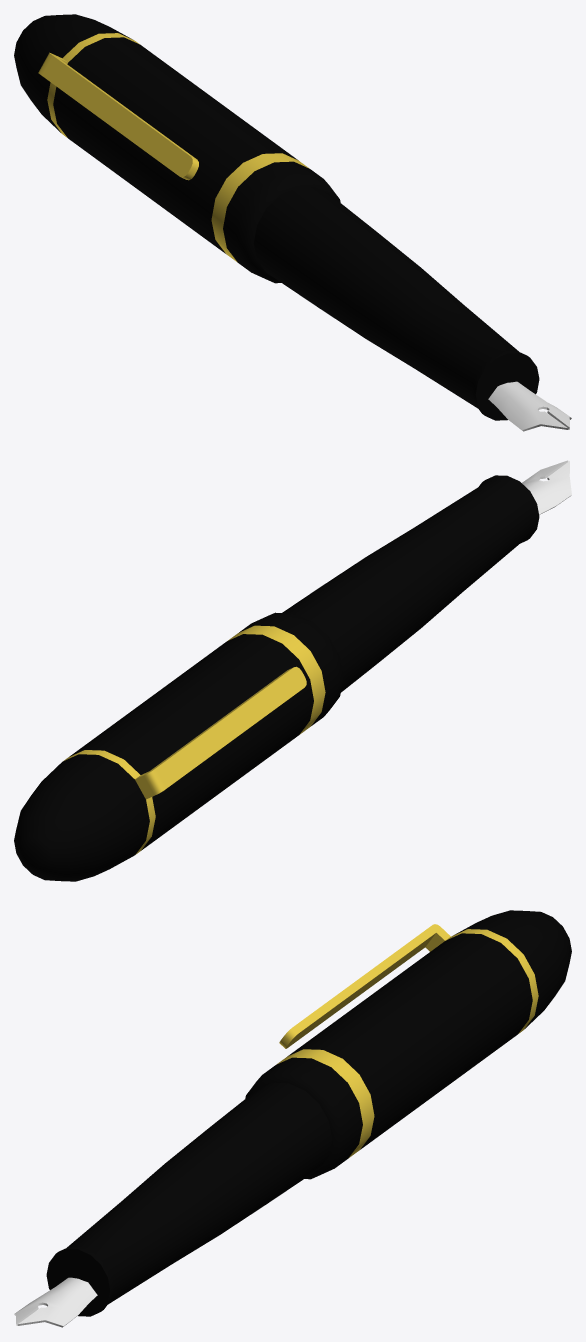
File: pen.fbx
3 views of the same model, one above another, from view 1: azimuth 30°, elevation 25°; view 2: azimuth 150°, elevation 25°; view 3: azimuth 330°, elevation 25° (orthographic).
Parts seen in each view (by area): view 1: Cylinder; view 2: Cylinder; view 3: Cylinder.
Part boxes in pixels (x1,y1,x2,y2): Cylinder: (14, 14, 571, 431); Cylinder: (14, 460, 571, 881); Cylinder: (14, 910, 571, 1327).
Size of the model in its own units: 2.74 by 2.47 by 22.31.
